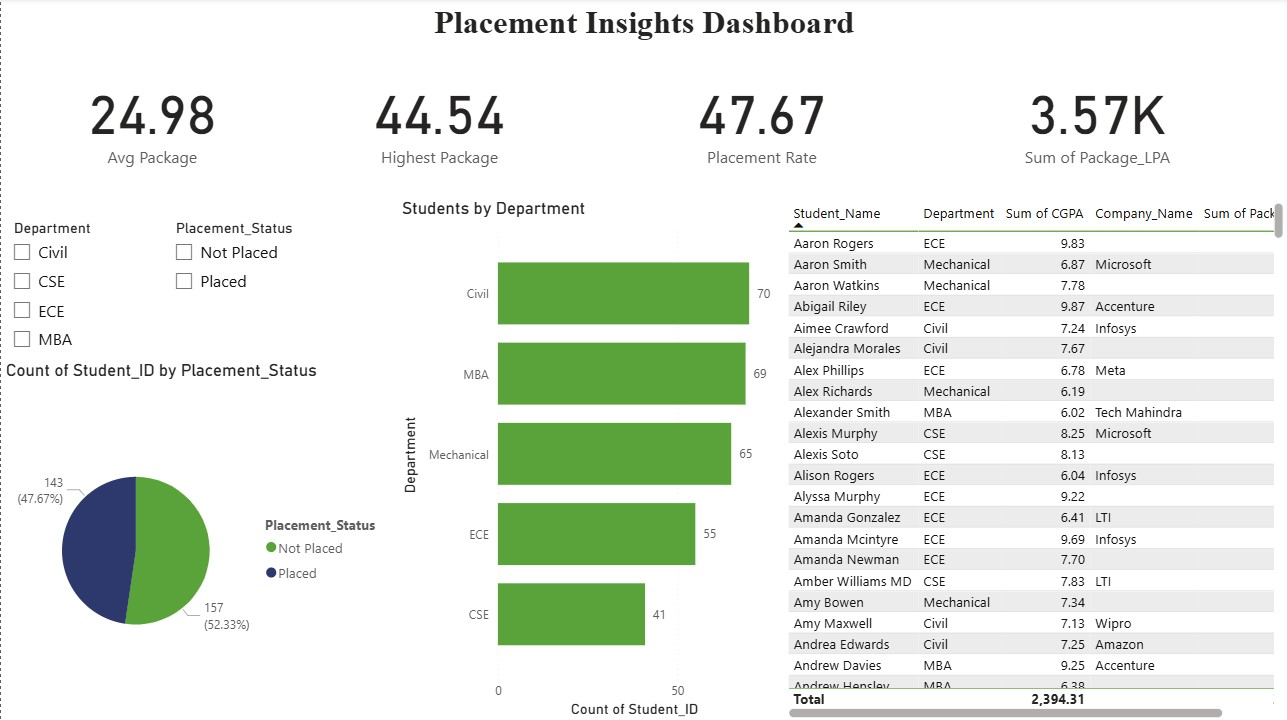

This screenshot's page, from the dashboard's own definition file:
{"tool":"powerbi","page":{"name":"Page 1","canvas":[1280,720],"ordinal":0},"visuals":[{"type":"clusteredBarChart","title":"Students by Department","fields":{"Category":["Sheet1.Department"],"Y":["Sheet1.Student_ID"]},"box":[393.1,198.3,383.9,521.1],"z":0},{"type":"card","fields":{"Values":["Sheet1.Package_LPA"]},"box":[901.4,59.8,378,119.5],"z":1000},{"type":"card","fields":{"Values":["Sheet1.Placement Rate"]},"box":[599.3,59.8,313.4,119.5],"z":2000},{"type":"card","fields":{"Values":["Sheet1.Avg Package"]},"box":[0,59.8,300.5,119.5],"z":3000},{"type":"card","fields":{"Values":["Sheet1.Highest Package"]},"box":[285.9,59.8,298.9,119.5],"z":4000},{"type":"slicer","fields":{"Values":["Sheet1.Department"]},"box":[0,214.9,161.5,176.1],"z":5000},{"type":"slicer","fields":{"Values":["Sheet1.Placement_Status"]},"box":[161.5,214.9,231,169.6],"z":6000},{"type":"pieChart","fields":{"Category":["Sheet1.Placement_Status"],"Y":["Sheet1.Student_ID"]},"box":[0,360.3,392.6,360.3],"z":7000},{"type":"tableEx","fields":{"Values":["Sheet1.Student_Name","Sheet1.Department","Sheet1.CGPA","Sheet1.Company_Name","Sheet1.Package_LPA"]},"box":[777.2,198.4,502.7,522.1],"z":8000},{"type":"textbox","box":[0,0,1279.5,59.8],"z":9000}]}

Visuals, with their boxes in screenshot pixels (x1, y1, x2, y2), scaled from the page's 1280x720 canvas onto the 1287x720 screenshot:
"Students by Department" clusteredBarChart: (left=395, top=198, right=781, bottom=719)
card - Sheet1.Package_LPA: (left=906, top=60, right=1286, bottom=179)
card - Sheet1.Placement Rate: (left=603, top=60, right=918, bottom=179)
card - Sheet1.Avg Package: (left=0, top=60, right=302, bottom=179)
card - Sheet1.Highest Package: (left=287, top=60, right=588, bottom=179)
slicer - Sheet1.Department: (left=0, top=215, right=162, bottom=391)
slicer - Sheet1.Placement_Status: (left=162, top=215, right=395, bottom=384)
pieChart - Sheet1.Placement_Status x Sheet1.Student_ID: (left=0, top=360, right=395, bottom=719)
tableEx - Sheet1.Student_Name x Sheet1.Department: (left=781, top=198, right=1286, bottom=719)
textbox: (left=0, top=0, right=1286, bottom=60)
